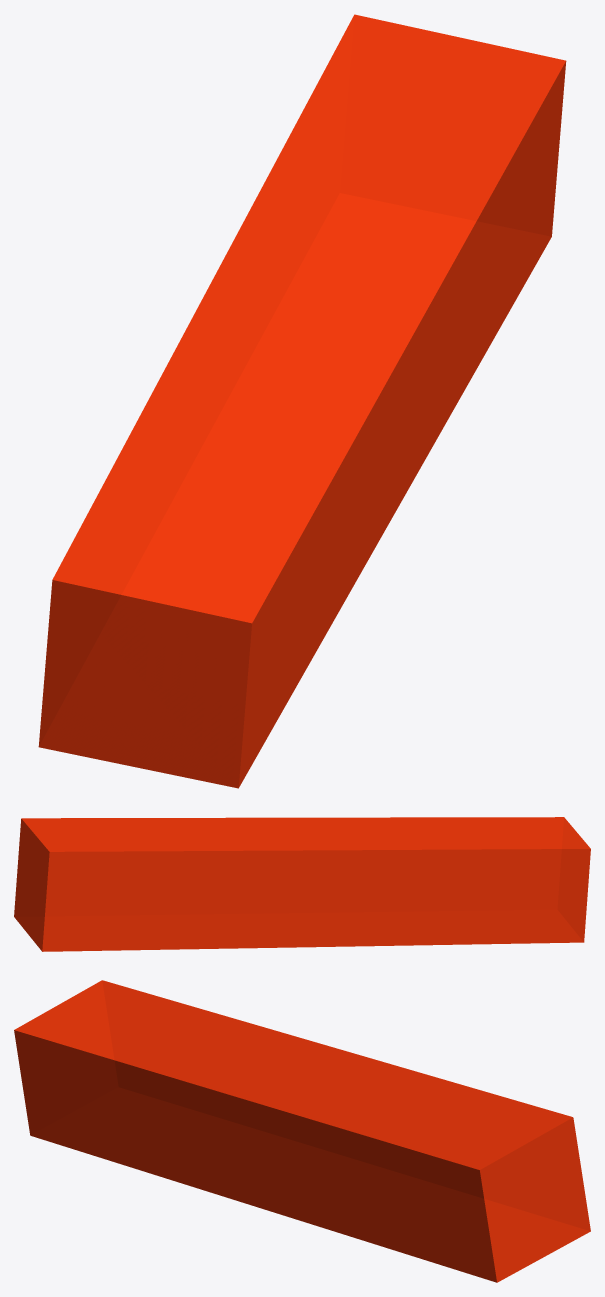
File: Event_421364160_EBrechit_26.fbx
The picture shows the model from 3 angles, top to bottom: view 1: azimuth 30°, elevation 25°; view 2: azimuth 150°, elevation 25°; view 3: azimuth 270°, elevation 25°; orthographic projection. The views are drawn at different scales.
Parts seen in each view (by area): view 1: Model; view 2: Model; view 3: Model.
Boxes of the visible parts, bbox=[...] form: Model: bbox=[38, 14, 566, 788]; Model: bbox=[14, 817, 590, 951]; Model: bbox=[14, 980, 590, 1282].
Size of the model in its own units: 0.2709 by 0.096 by 0.2713.
